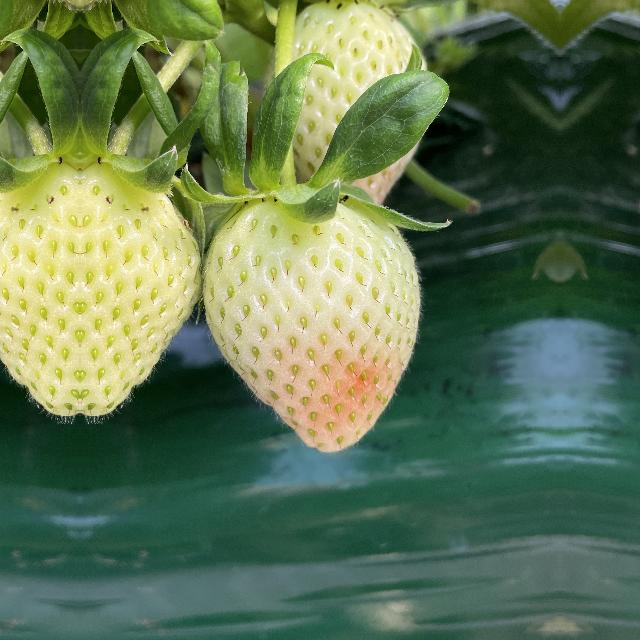Health_25: (268, 0, 424, 212), (80, 152, 200, 420), (0, 152, 80, 420)
Health_50: (198, 188, 428, 458)
